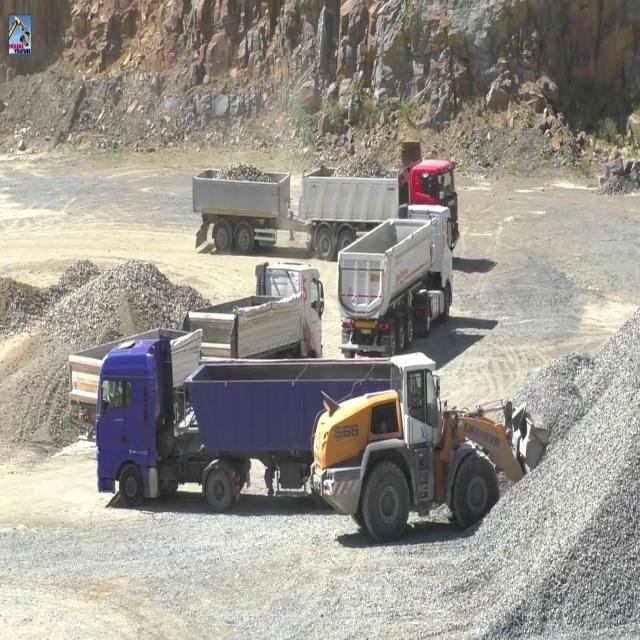Dump Truck: (95, 334, 393, 511), (66, 253, 324, 431), (191, 156, 459, 262), (334, 200, 454, 357)
Loader: (308, 348, 552, 544)
